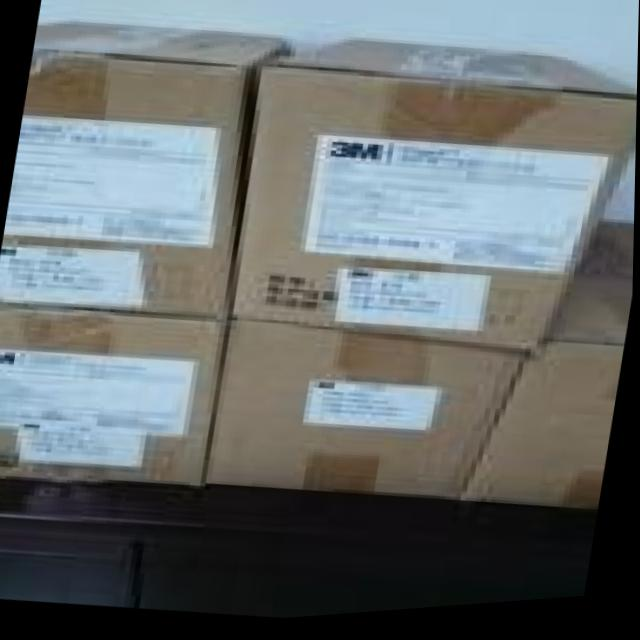box: (236, 44, 638, 360), (0, 23, 294, 322), (208, 322, 528, 504), (459, 231, 635, 519), (0, 310, 225, 488)
